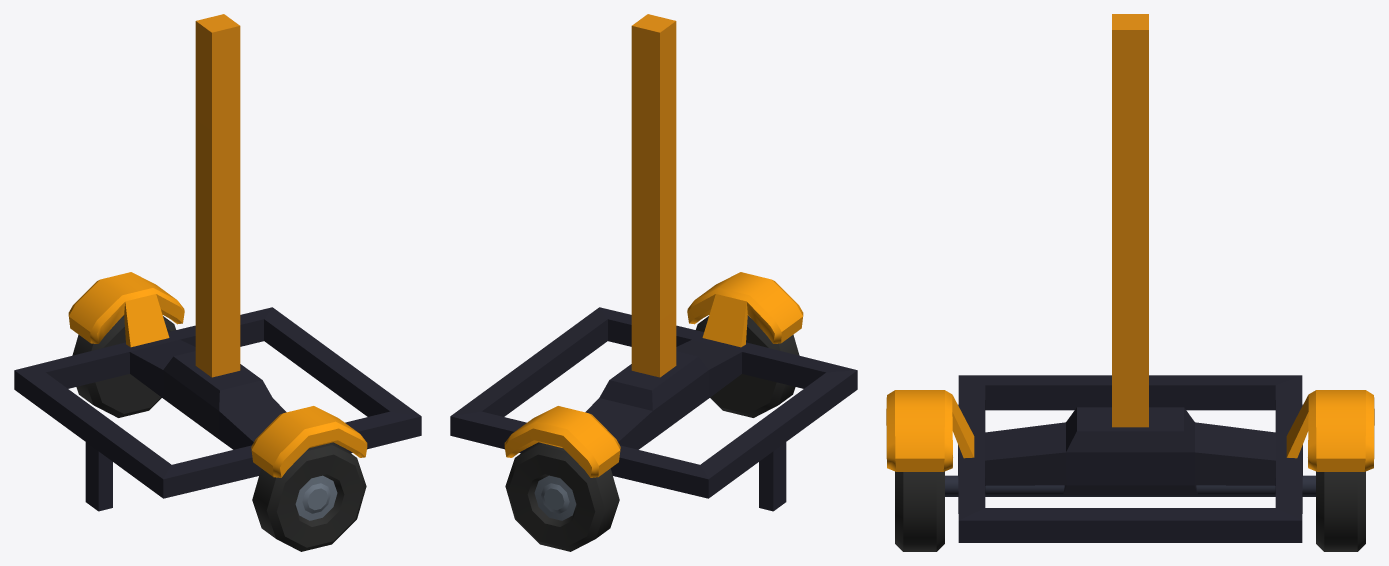
The model's file is SignHolder_1_D.fbx.
The picture shows the model from 3 angles, left to right: view 1: azimuth 30°, elevation 25°; view 2: azimuth 150°, elevation 25°; view 3: azimuth 270°, elevation 25°; orthographic projection. The views are drawn at different scales.
Parts seen in each view (by area): view 1: SignHolder_1_D; view 2: SignHolder_1_D; view 3: SignHolder_1_D.
Part boxes in pixels (x1,y1,x2,y2): SignHolder_1_D: [14, 14, 421, 551]; SignHolder_1_D: [450, 14, 857, 551]; SignHolder_1_D: [886, 14, 1374, 551].
Bounding box in the file's own units: 76.63 × 128 × 109.
